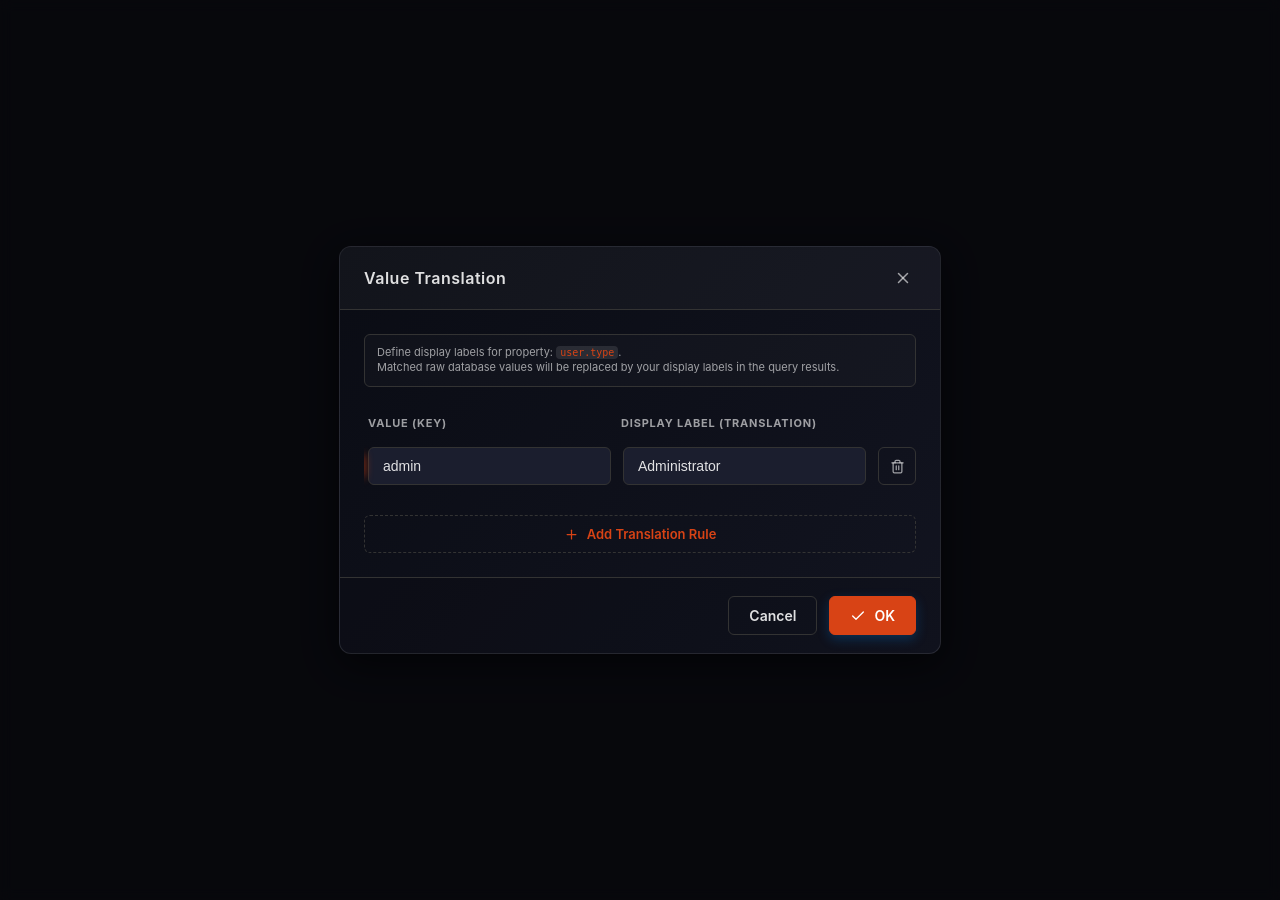
Test case: TranslationDialog › prevents saving and shows validation error on duplicate keys
// Add a second row
Click the button "Add Translation Rule" at (640, 534), box [364, 515, 916, 553]
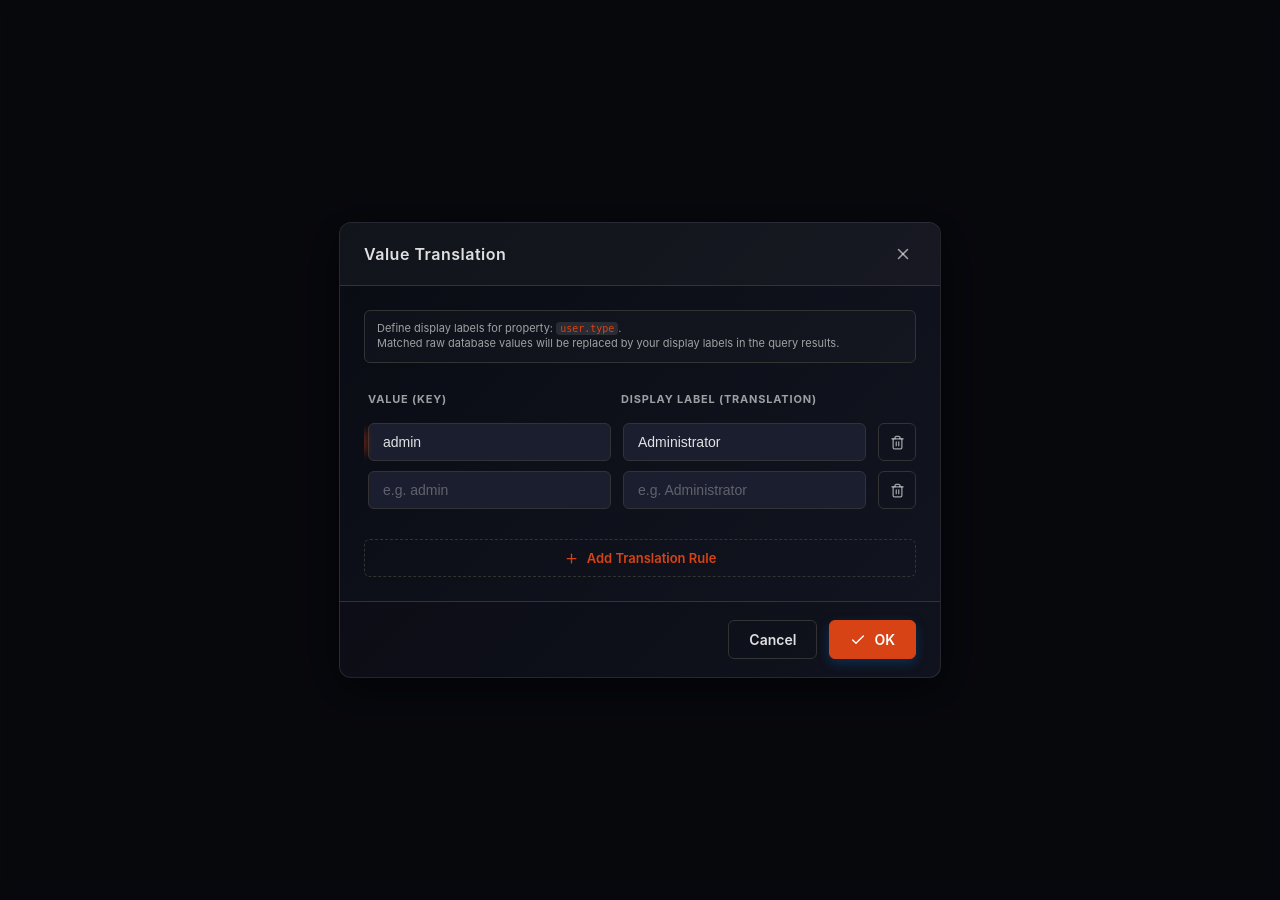
// Set second row key to 'admin' as well
Type "admin" into the field with placeholder "e.g. admin" at (490, 490), box [368, 471, 611, 509]
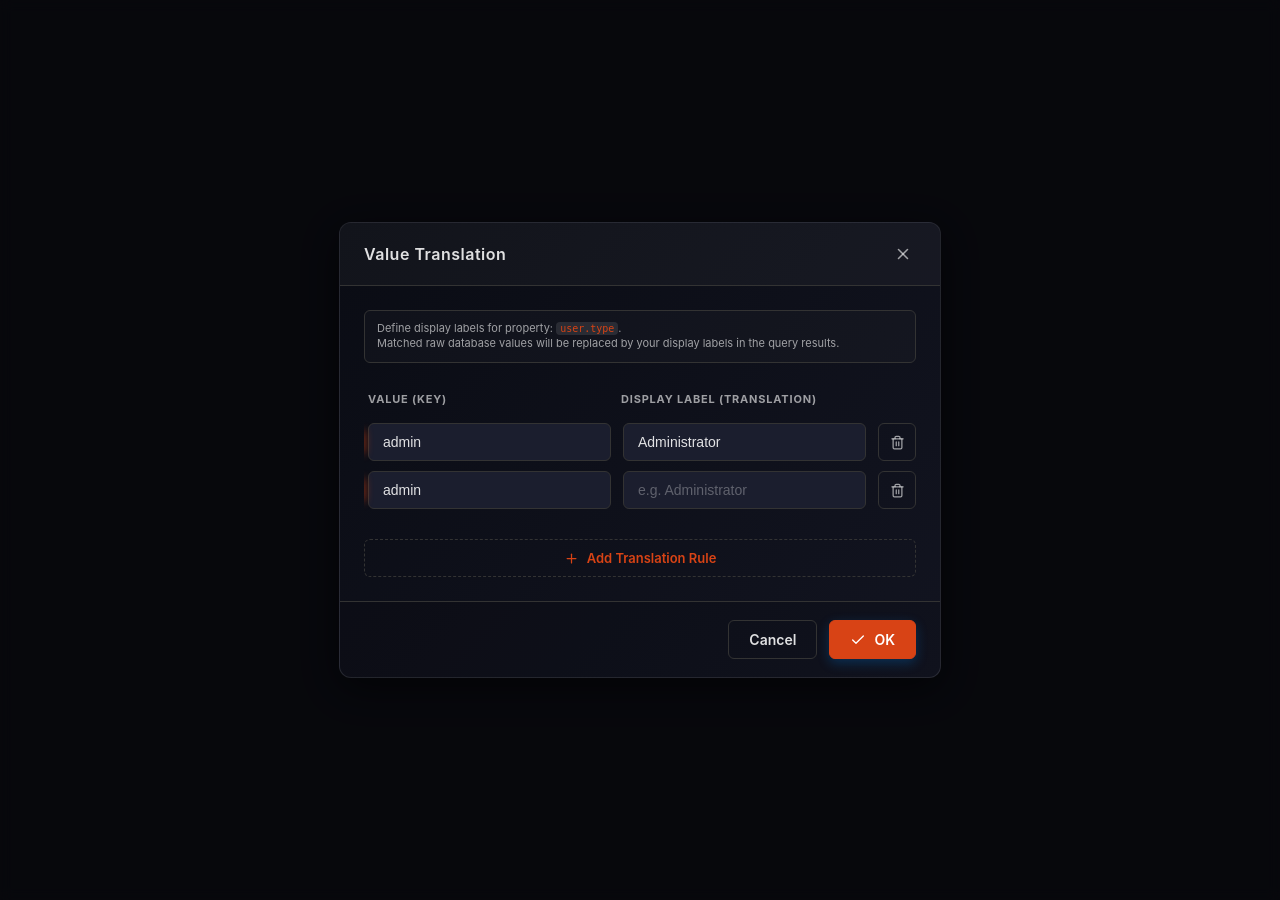
Type "Dup Admin" into the field with placeholder "e.g. Administrator" at (744, 490), box [623, 471, 866, 509]
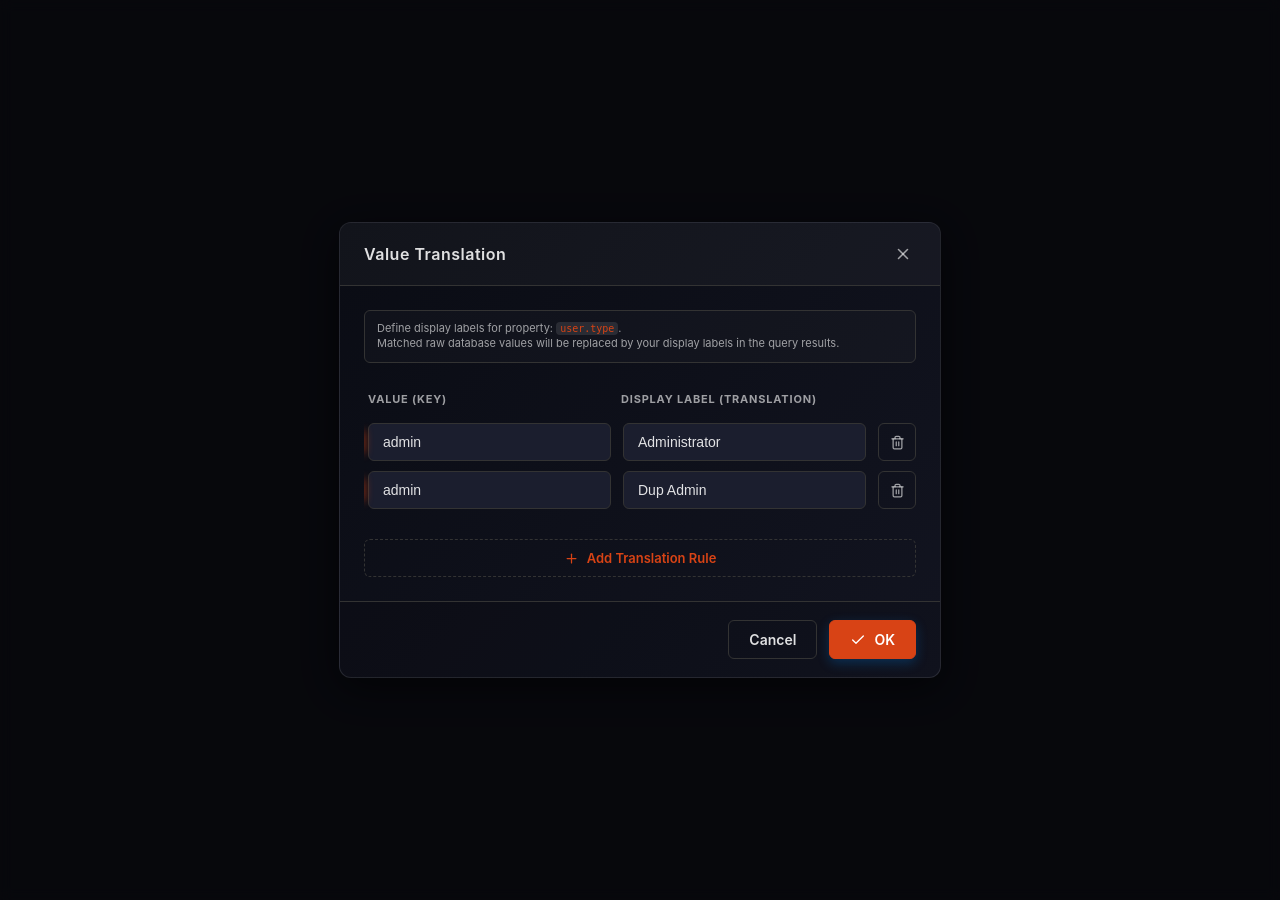
// Try to submit
Click the button "OK" at (873, 640), box [829, 620, 916, 659]
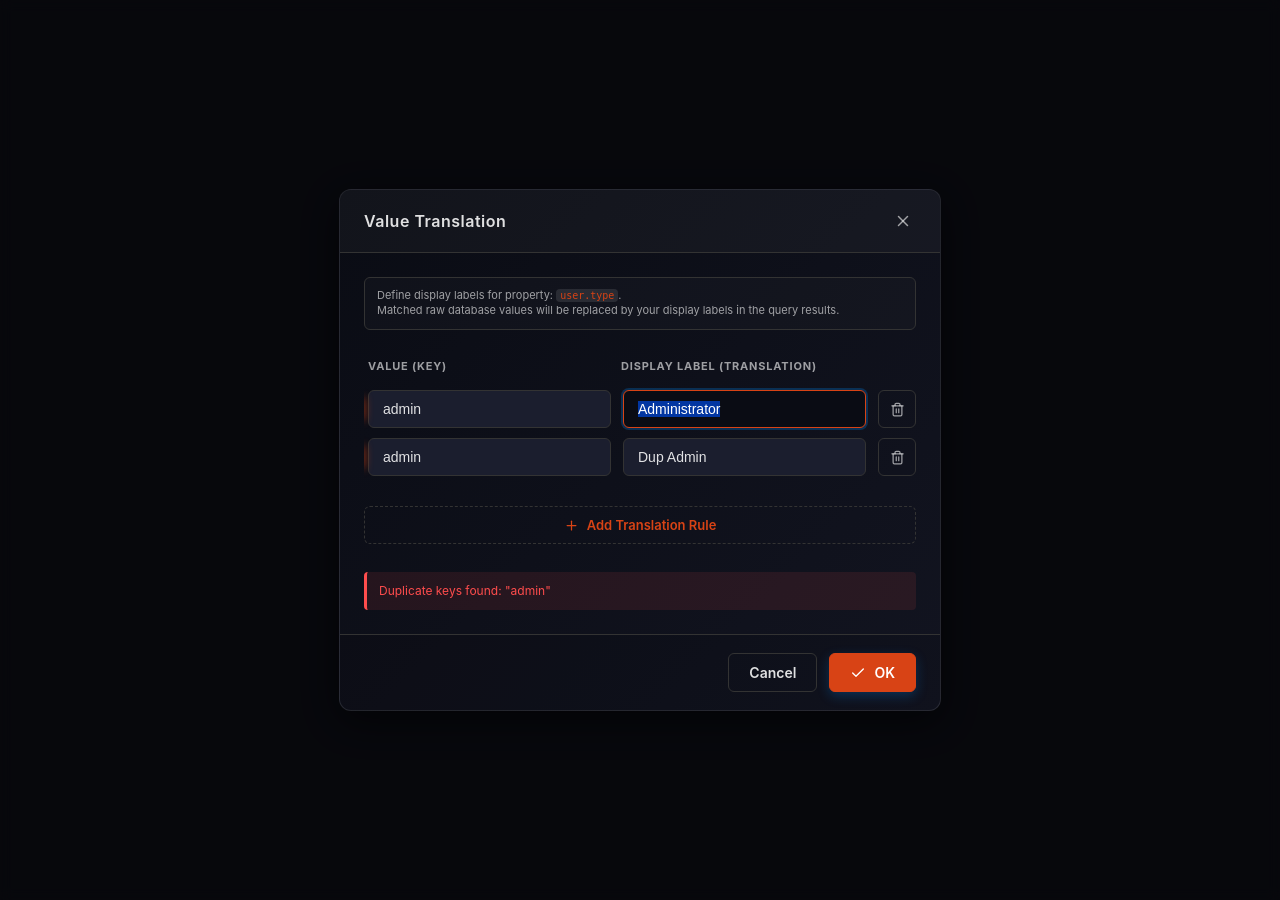
Check: the text "Duplicate keys found: \"admin\"" is shown, box [364, 572, 916, 610]
